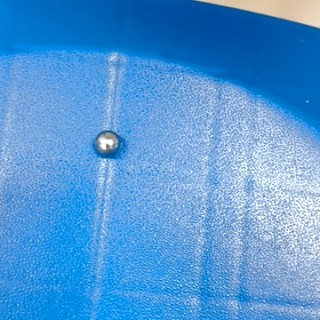ironball: (90, 122, 131, 160)
